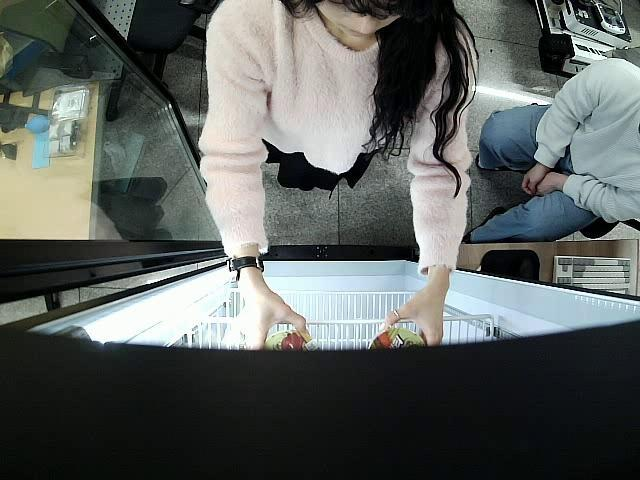04_chapagetti_S: (260, 324, 326, 362), (367, 326, 432, 357)
